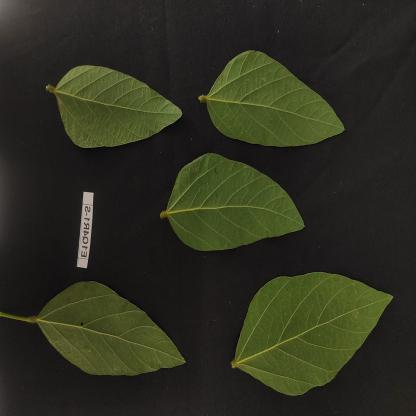label: (72, 191, 104, 270)
leaflets: (223, 266, 394, 400), (26, 278, 182, 394), (146, 162, 324, 252), (192, 56, 361, 142), (42, 49, 176, 145)
